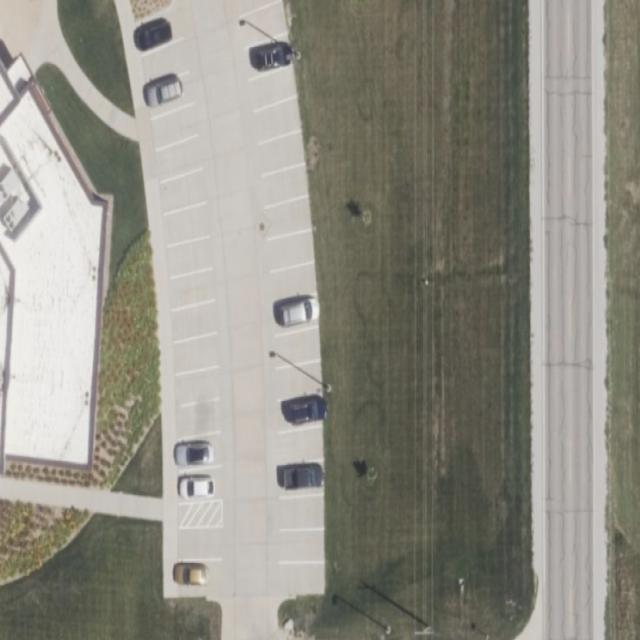Empty: (140, 37, 190, 90), (239, 0, 288, 51), (151, 103, 199, 152), (156, 134, 203, 184), (249, 65, 297, 113), (255, 96, 302, 144), (258, 131, 306, 176), (161, 169, 207, 214), (265, 196, 312, 240), (164, 201, 209, 246), (169, 267, 215, 311), (171, 300, 218, 343), (167, 235, 212, 279), (174, 332, 219, 376), (275, 326, 321, 368), (269, 230, 315, 272), (262, 165, 308, 207), (271, 263, 318, 304), (175, 367, 221, 408), (276, 361, 323, 401), (176, 399, 221, 440), (279, 426, 324, 465), (177, 528, 222, 563), (280, 529, 324, 563), (279, 562, 325, 594), (279, 496, 325, 528)
Parked: (134, 4, 186, 58), (245, 32, 293, 82), (145, 72, 196, 119), (272, 293, 319, 339), (278, 392, 323, 435), (279, 459, 325, 500), (177, 432, 223, 472), (175, 559, 222, 597), (178, 466, 223, 505)
